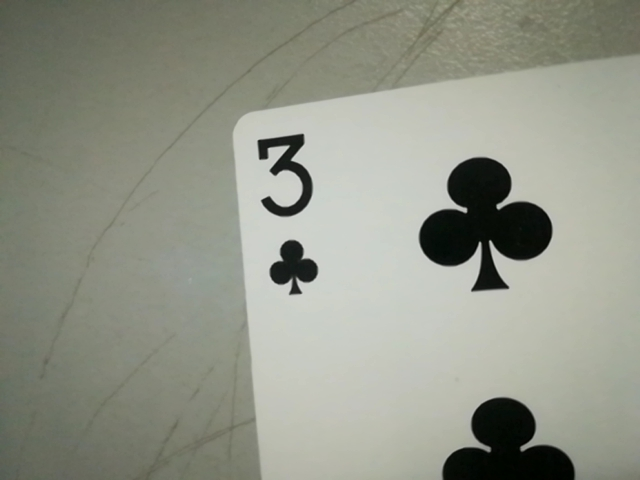mh 3: (243, 118, 332, 304)
